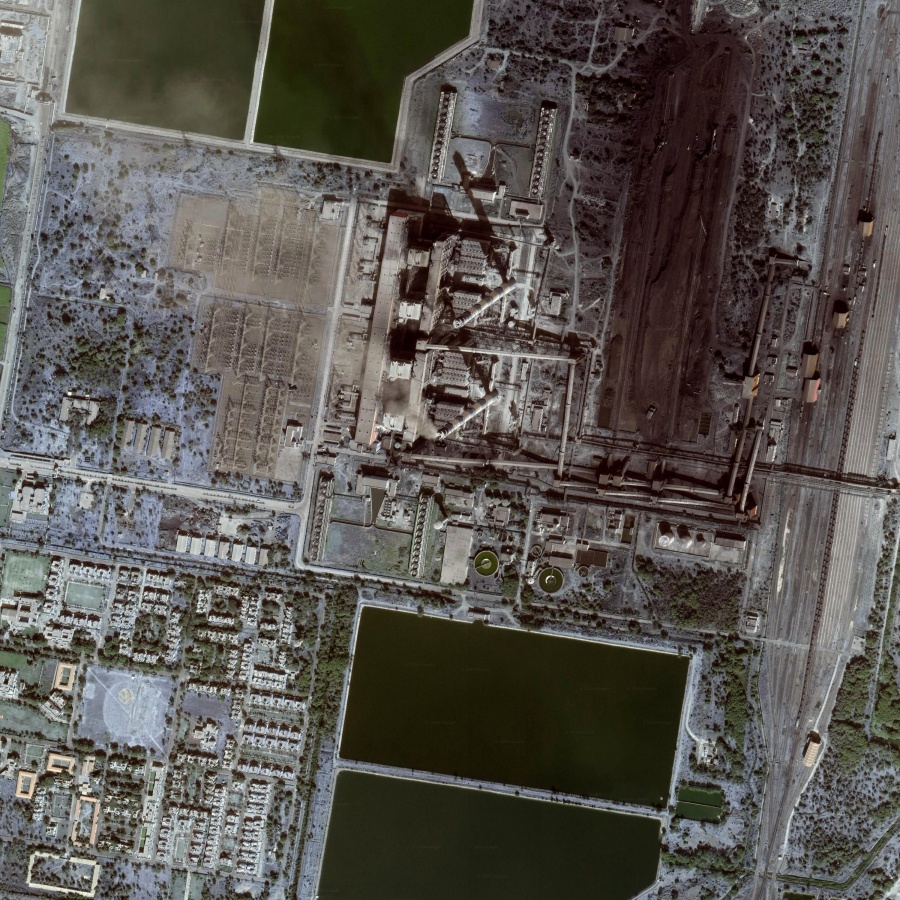PowerPlant: (365, 4, 808, 512)
